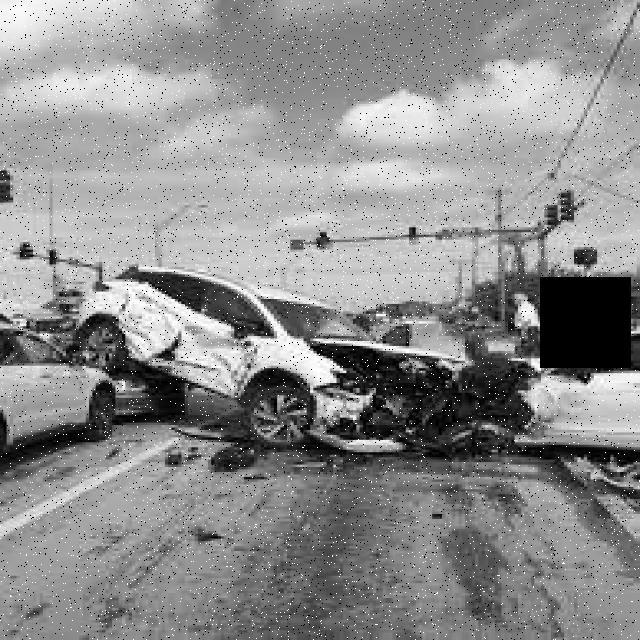severe: (64, 257, 533, 467)
